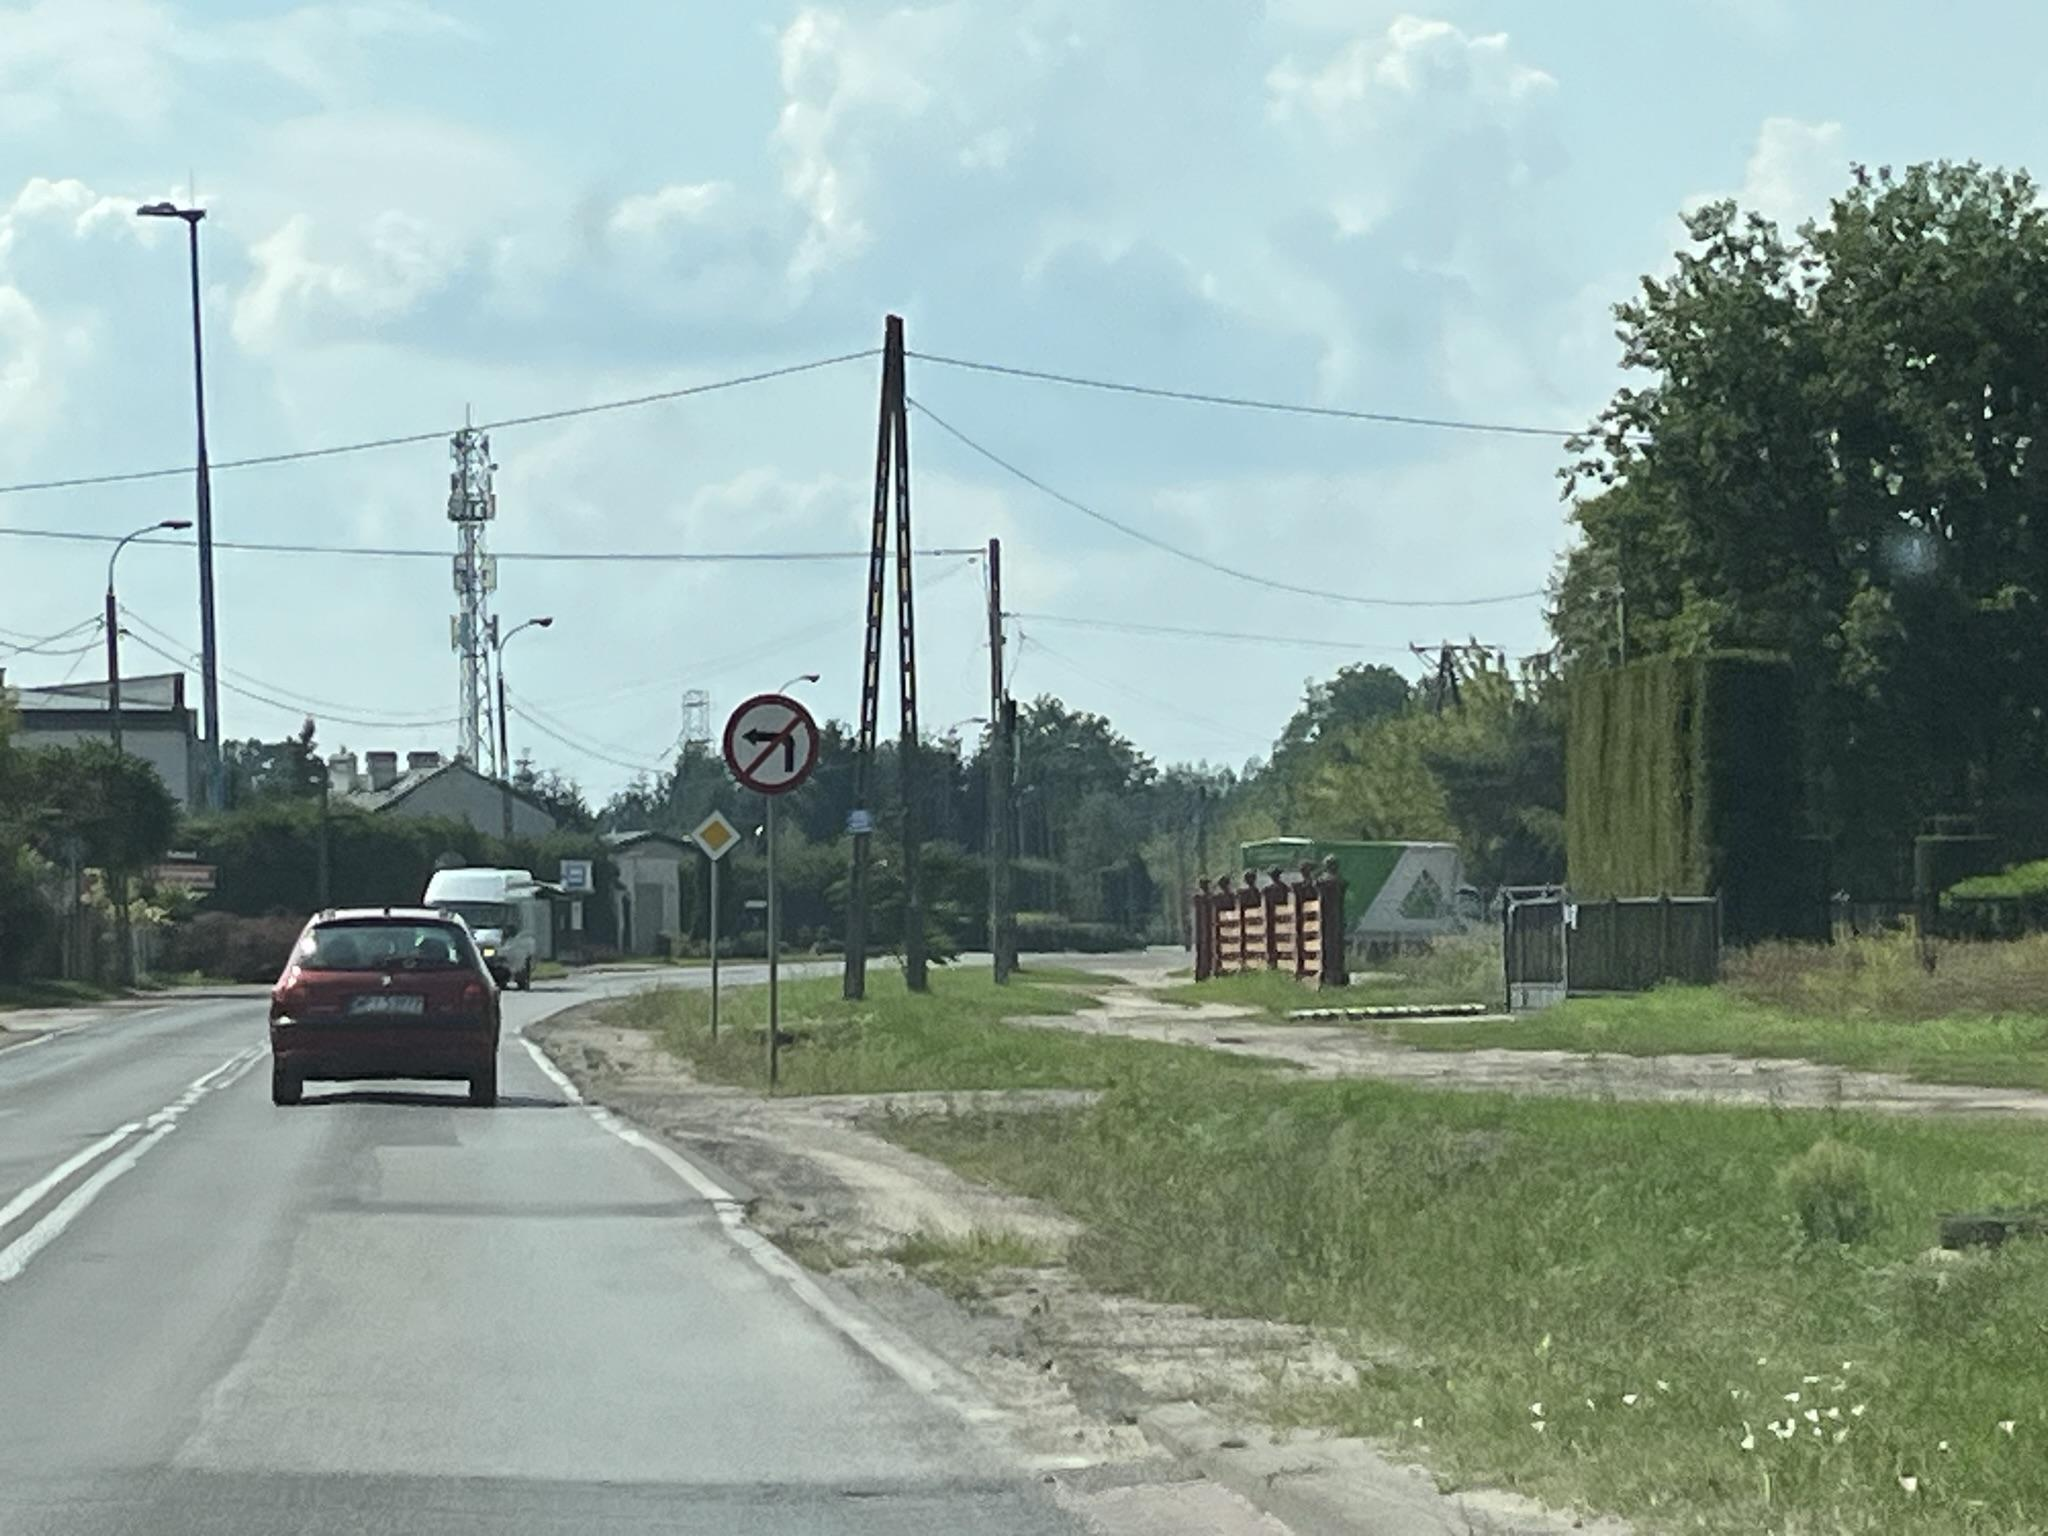information: (690, 810, 743, 863), (566, 865, 585, 887)
prohibitory: (722, 692, 821, 795)
